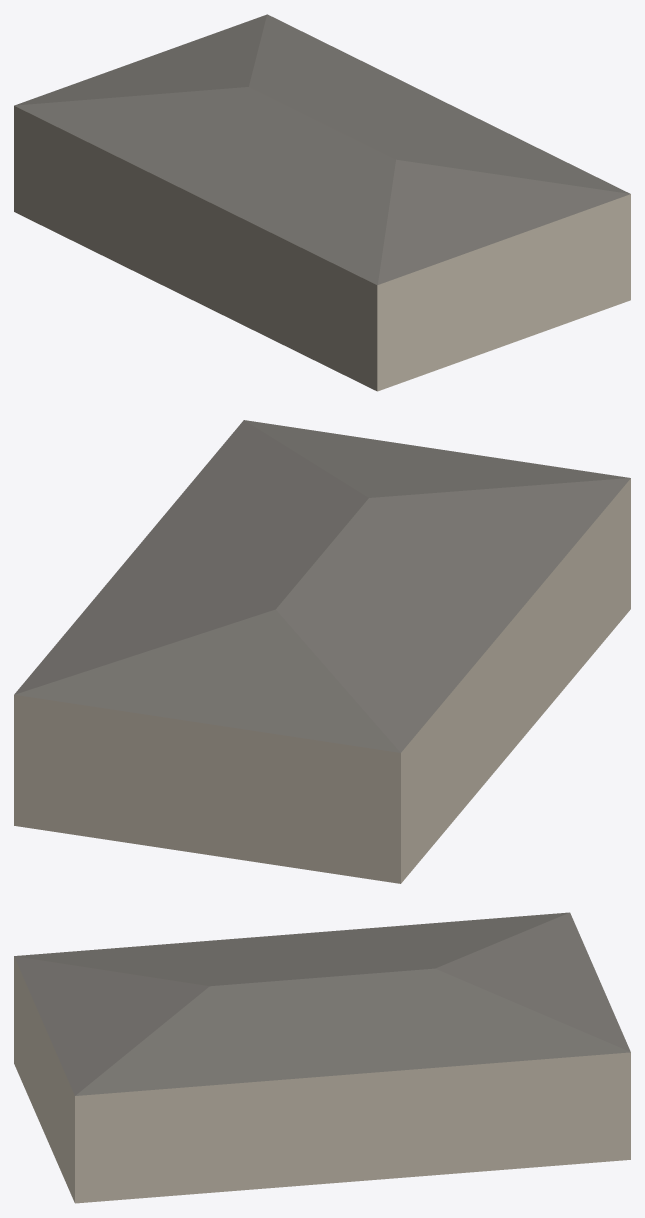
3 renders of one model, top to bottom at view 1: azimuth 30°, elevation 25°; view 2: azimuth 150°, elevation 25°; view 3: azimuth 270°, elevation 25°, orthographic. The views are drawn at different scales.
Parts seen in each view (by area): view 1: HP-w389701971; view 2: HP-w389701971; view 3: HP-w389701971.
Boxes of the visible parts, x1=… form: HP-w389701971: x1=14, y1=14, x2=630, y2=391; HP-w389701971: x1=14, y1=420, x2=630, y2=883; HP-w389701971: x1=14, y1=912, x2=630, y2=1203.
Bounding box in the file's own units: 43.99 × 15 × 62.47.
